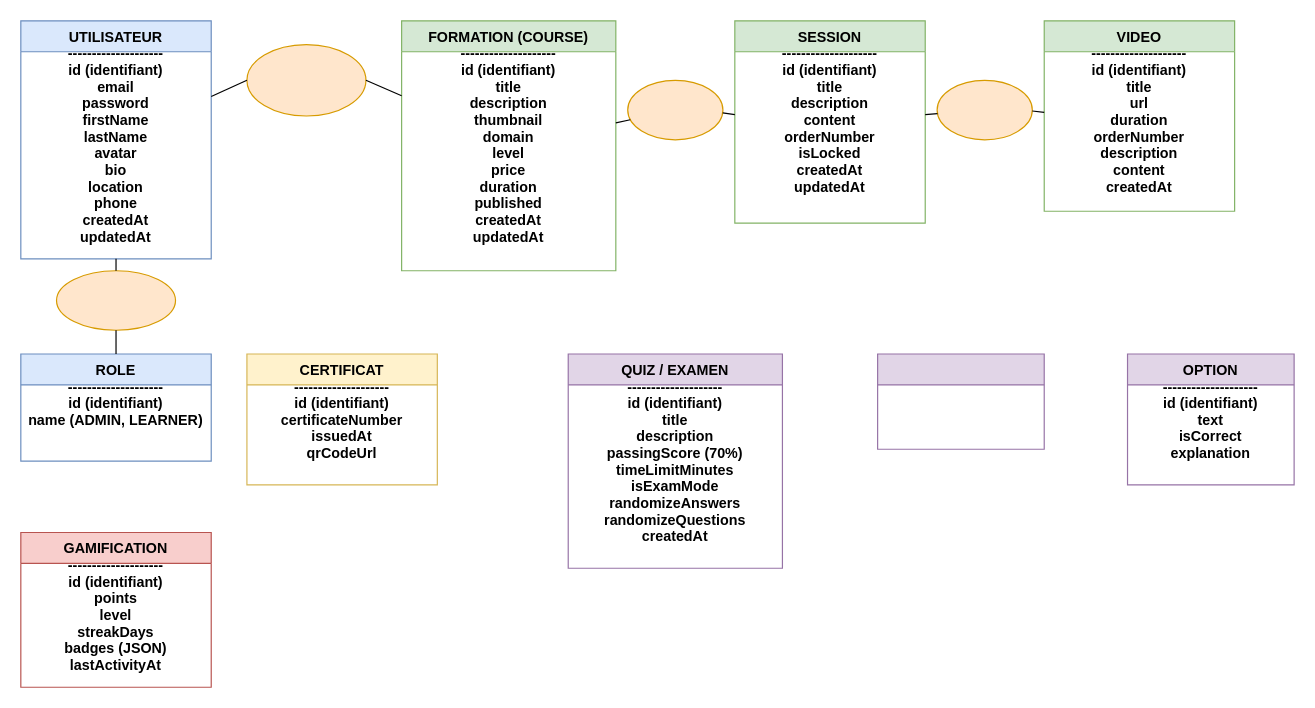
This 1315x708 diagram has some shape labels left out. The shapes that lost their labels are listed below. From the top down, each one's box as (x1, y1, x2, y2) in pixels, then its label:
(246, 43, 366, 116): S'inscrire (0,N) / (0,N) enrolledAt
(627, 79, 723, 140): Composer (1,1) / (1,N)
(936, 79, 1032, 140): Contenir (1,1) / (1,N)
(55, 270, 176, 330): Posséder (1,1) / (0,N)
(876, 353, 1044, 449): QUESTION -------------------- id (identifiant) text
